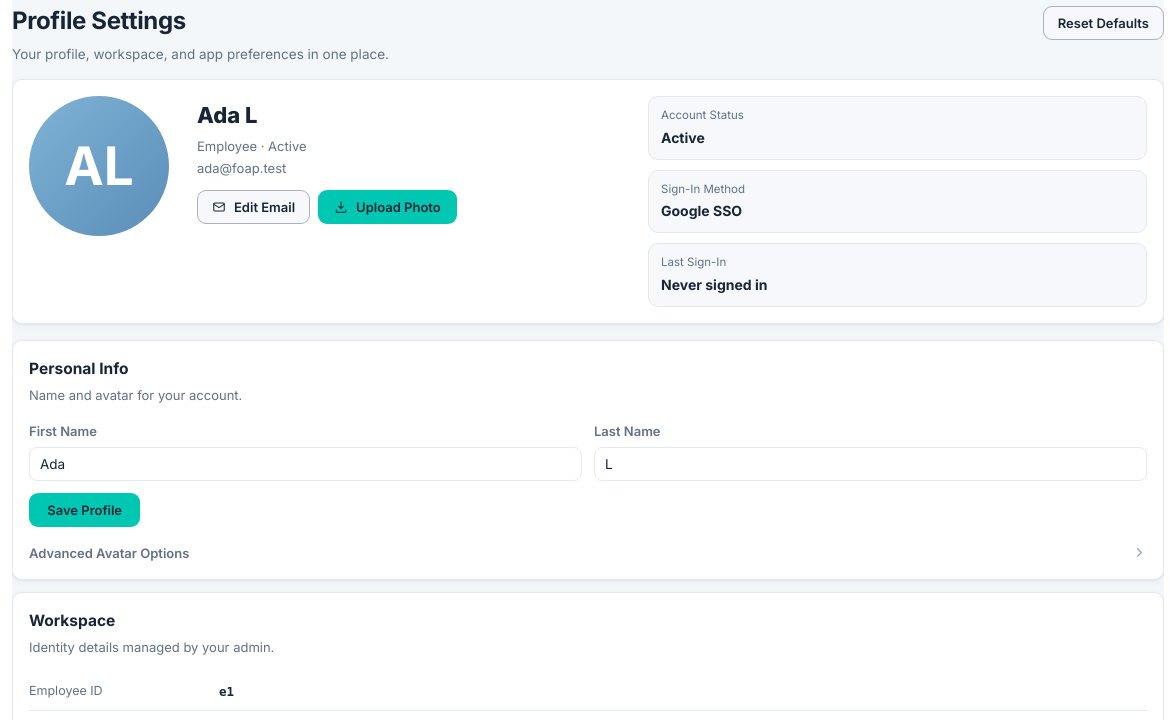
Test case: SettingsPage › edits the email only inside the current domain
Expected: the field labelled "Email Address" is not shown
Click the button "Edit Email" at (254, 208), box [197,190,310,224]
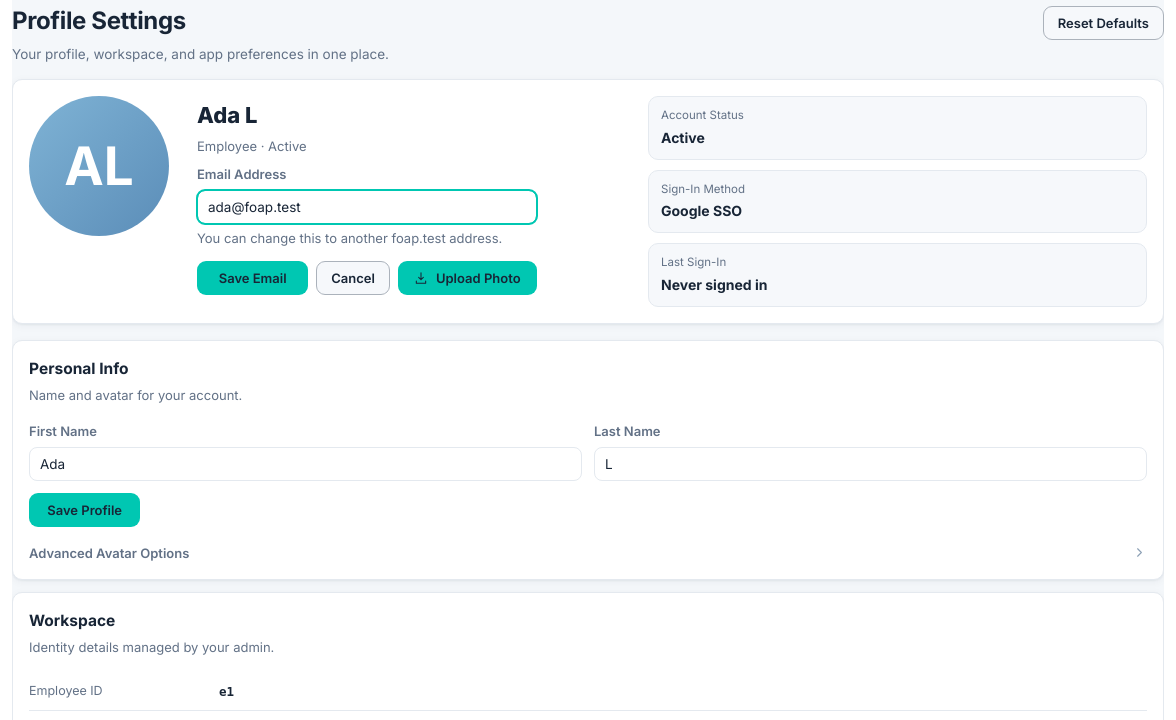
Now the field labelled "Email Address" holds "ada@foap.test"
Now the text "You can change this to another foap.test address." is shown, box [197,228,537,249]
Replace the text in the field labelled "Email Address" with "ada@gmail.com" at (367, 208), box [197,190,537,224]
Click the button "Save Email" at (253, 278), box [197,261,308,295]
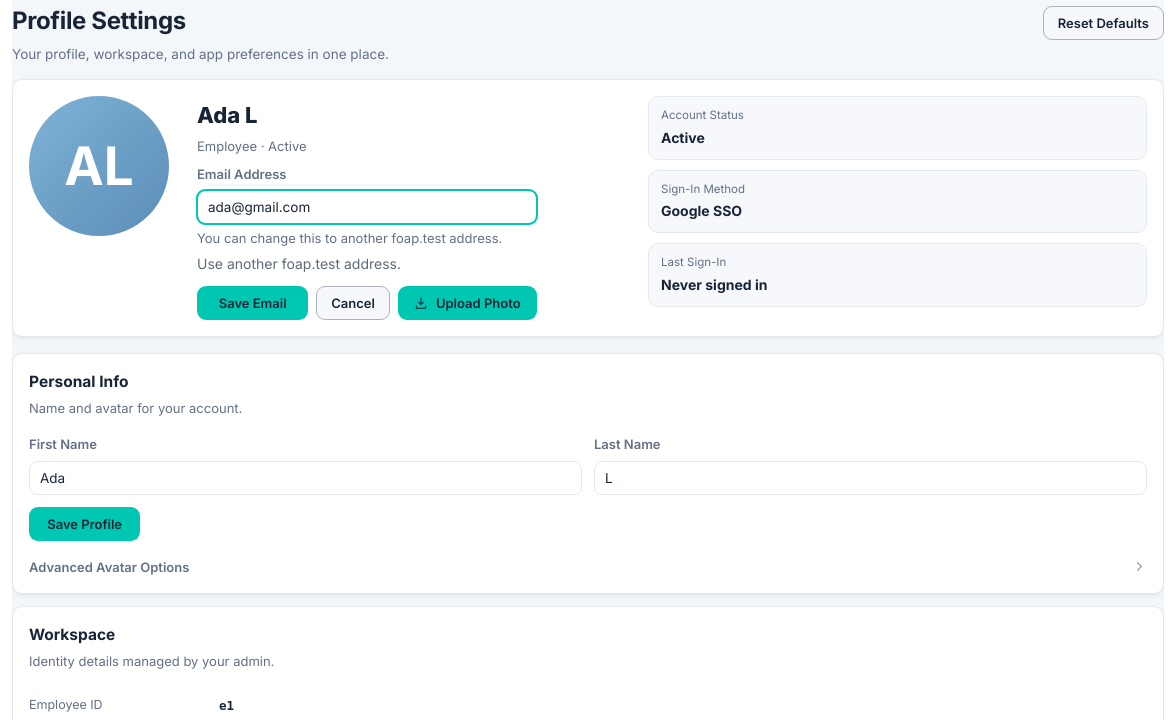
Now the message reads "Use another foap.test address.", box [197,255,401,272]
Replace the text in the field labelled "Email Address" with "ada" at (367, 208), box [197,190,537,224]
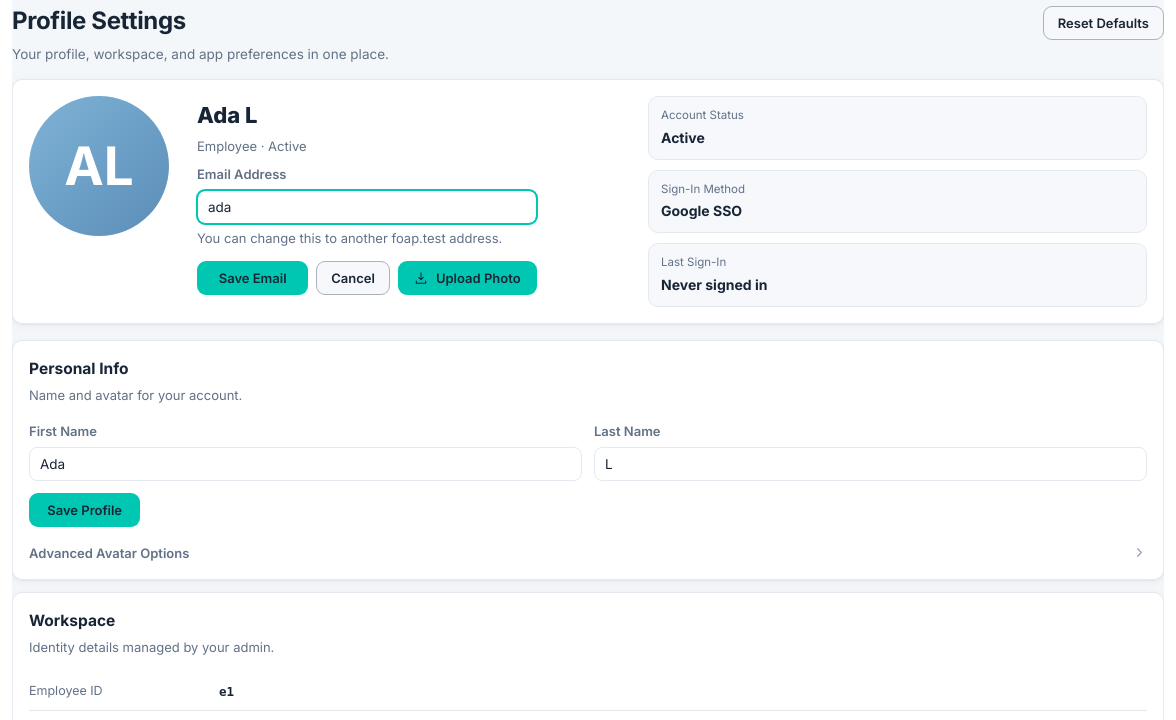
Click the button "Save Email" at (253, 278), box [197,261,308,295]
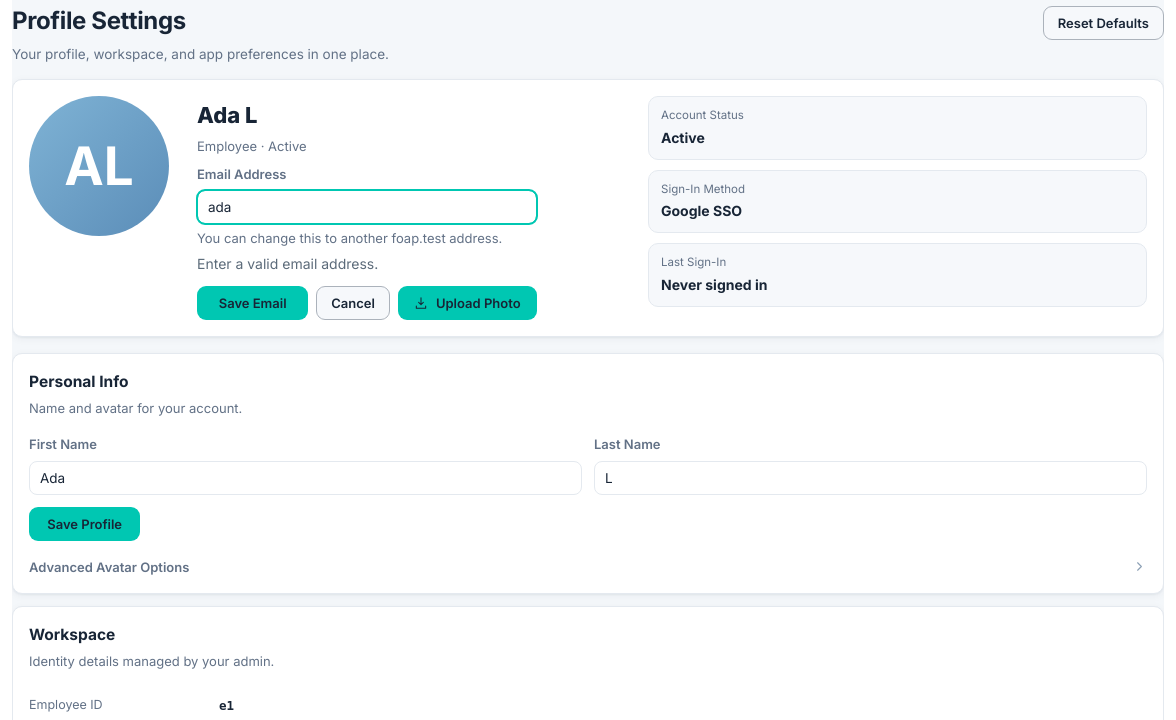
Now the message reads "Enter a valid email address.", box [197,255,378,272]
Replace the text in the field labelled "Email Address" with "Ada.Desk@Foap.Test" at (367, 208), box [197,190,537,224]
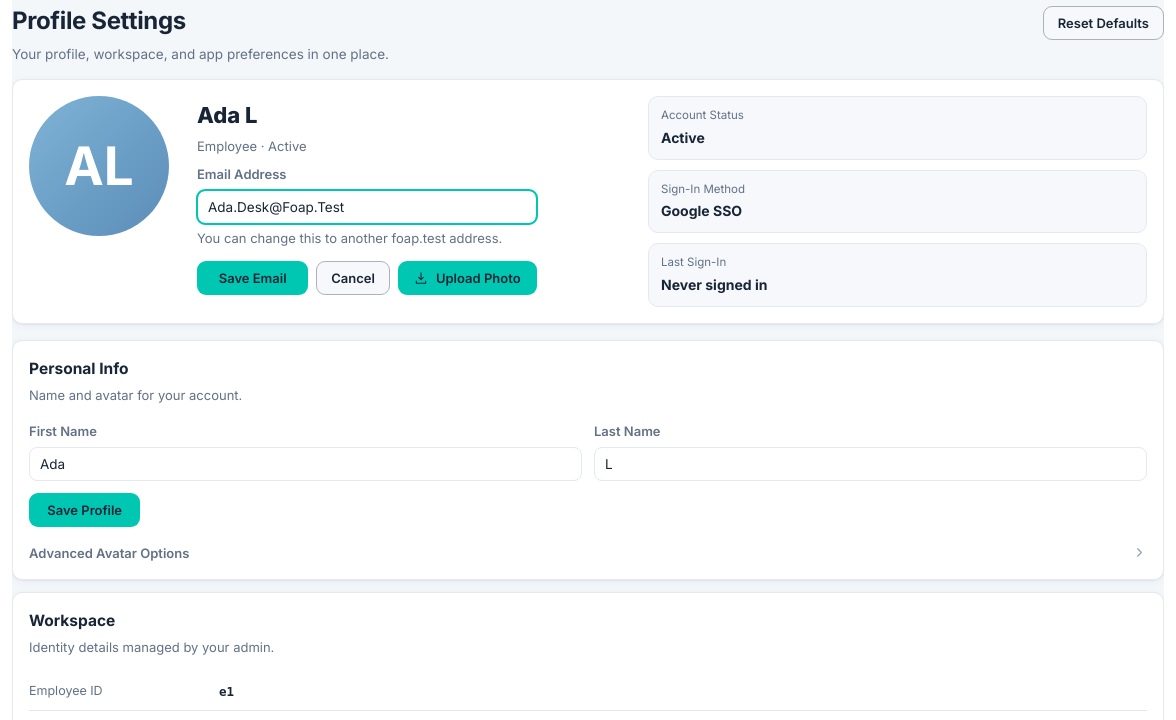
Click the button "Save Email" at (253, 278), box [197,261,308,295]
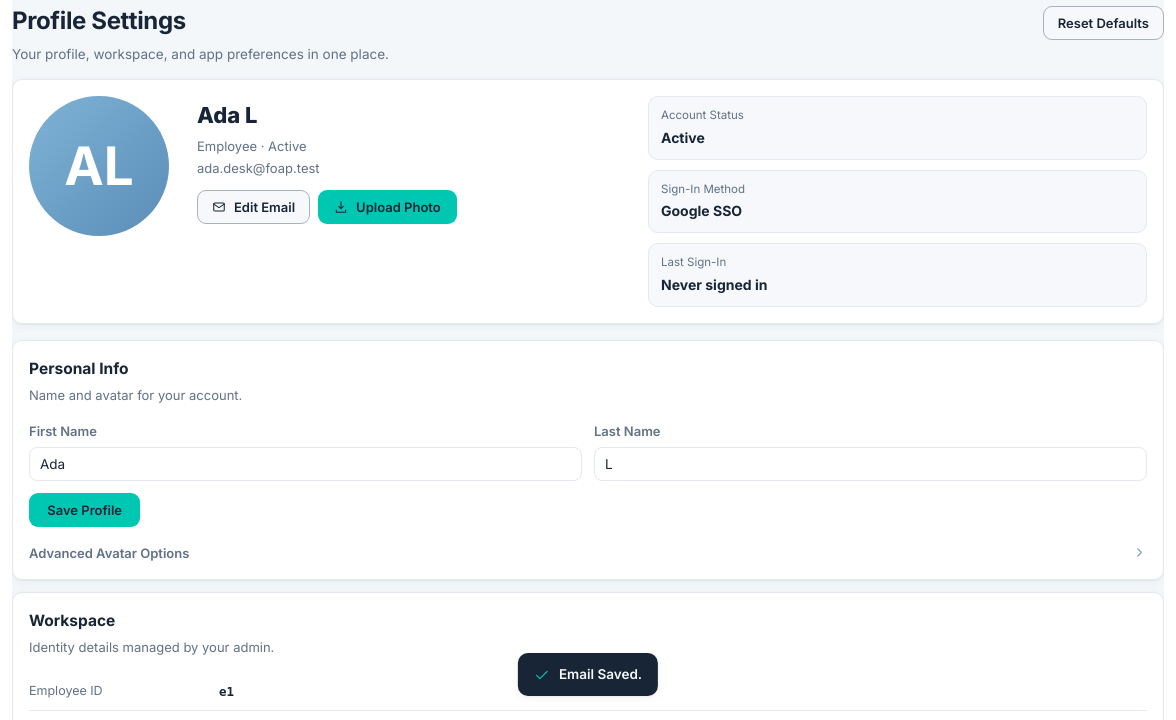
Now the text "Email Saved." is shown, box [559,664,642,685]
Now the label "Email Address" is gone
